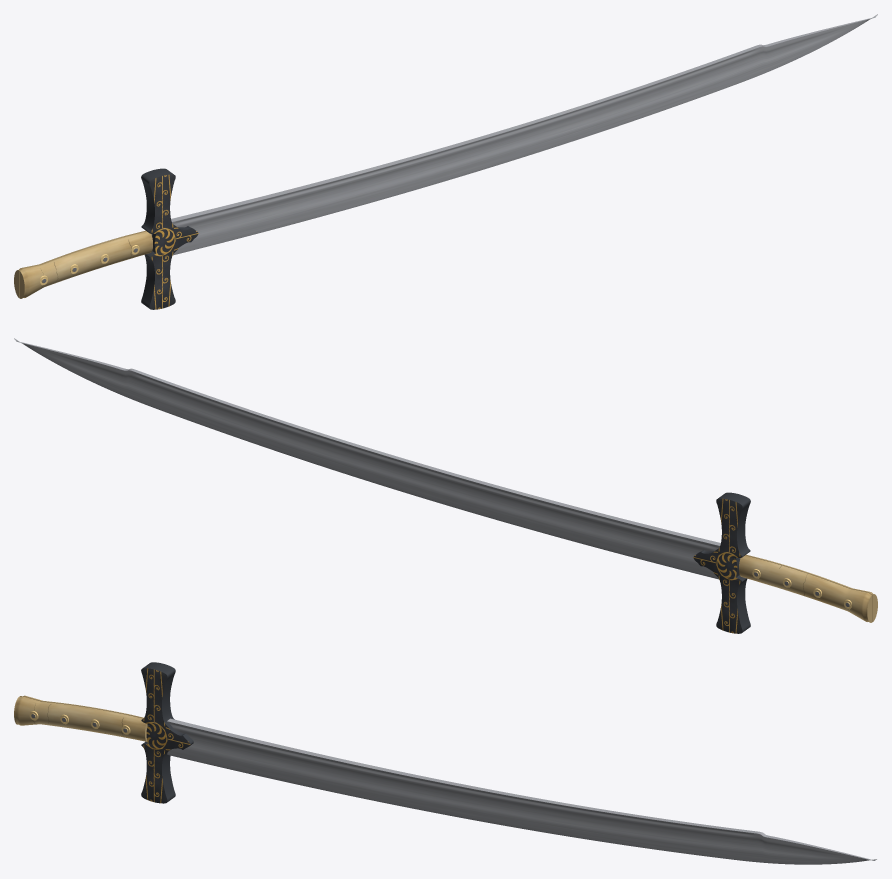
The model's file is kilic.glb.
The picture shows the model from 3 angles, top to bottom: view 1: azimuth 30°, elevation 25°; view 2: azimuth 150°, elevation 25°; view 3: azimuth 330°, elevation 25°; orthographic projection.
Visible parts, largest first — view 1: Namlu, Balcak, Kabza_Sag; view 2: Namlu, Balcak, Kabza_Sol; view 3: Namlu, Balcak, Kabza_Sag.
Part boxes in pixels (x1,y1,x2,y2): Namlu: (171, 14, 877, 255); Balcak: (141, 168, 198, 309); Kabza_Sag: (19, 231, 152, 298); Namlu: (14, 338, 720, 579); Balcak: (693, 492, 750, 633); Kabza_Sol: (739, 555, 872, 622); Namlu: (167, 718, 876, 864); Balcak: (141, 662, 193, 803); Kabza_Sag: (14, 696, 147, 741).
Bounding box in the file's own units: 1.27 × 0.187 × 0.0294.
6 materials, 4 textured.
